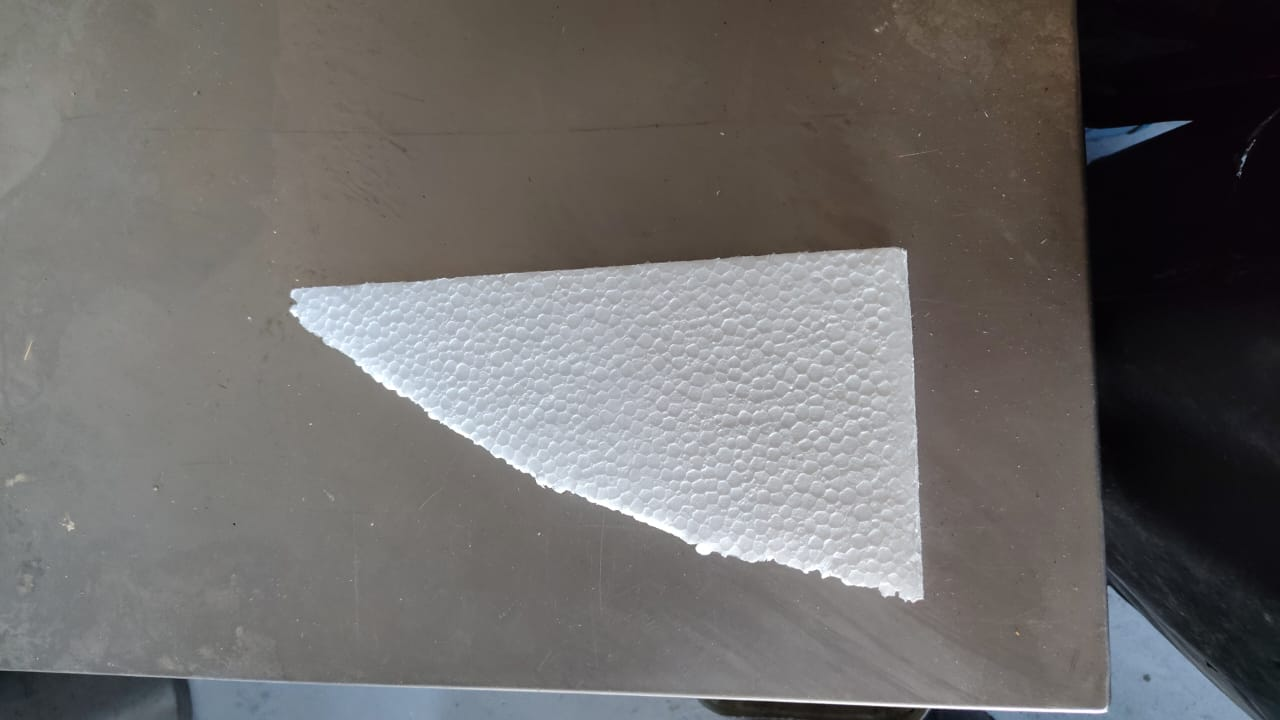Ordinario: (289, 247, 925, 604)
